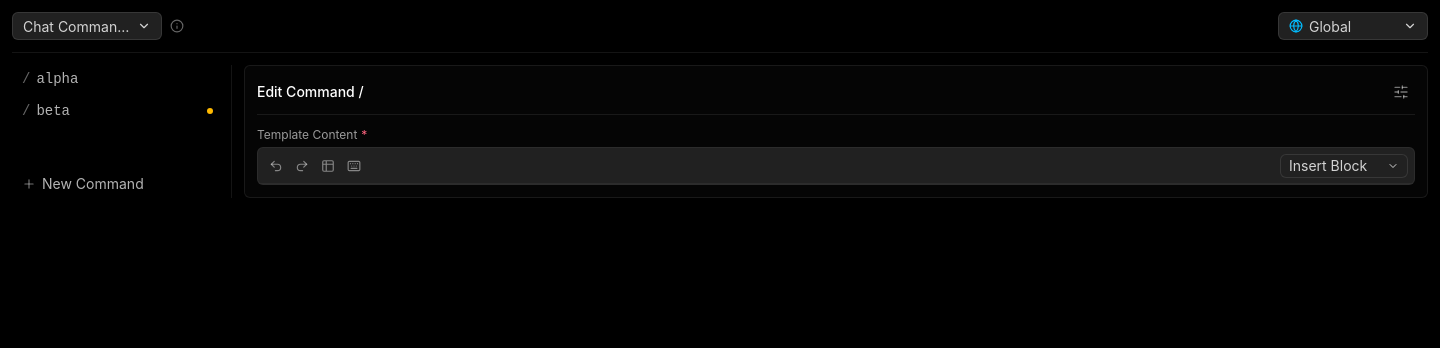
Test case: CustomCommandSettings 命令行 › 支持键盘 Enter 切换选中
This screenshot has width=1440, height=348.
Expected: the text "alpha" is shown, [36,71,78,87]
Click the button named "Edit Details". click: click(1401, 92)
box: [1387,78,1415,106]
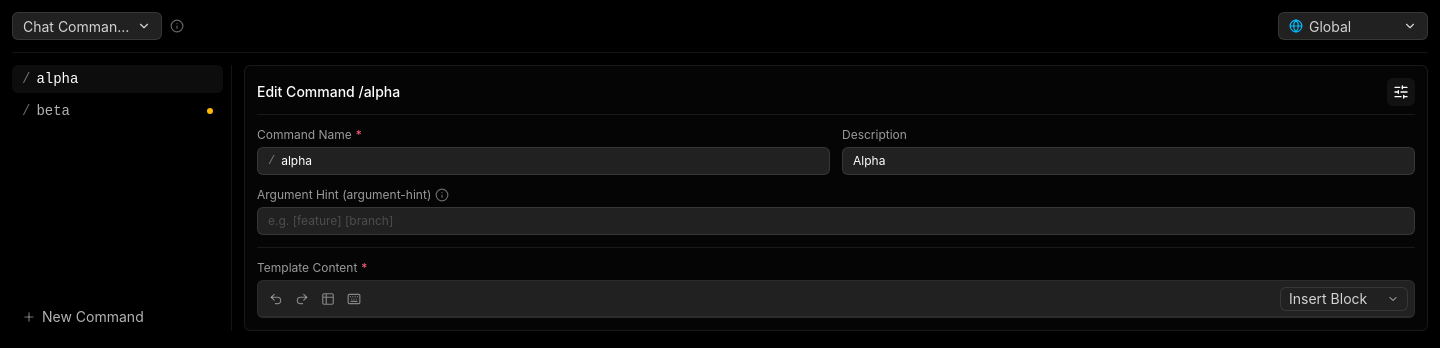
Now the field showing "alpha" is shown, box [281,153,819,169]
Click the button "/ beta". click: click(53, 111)
box: [22,103,213,119]
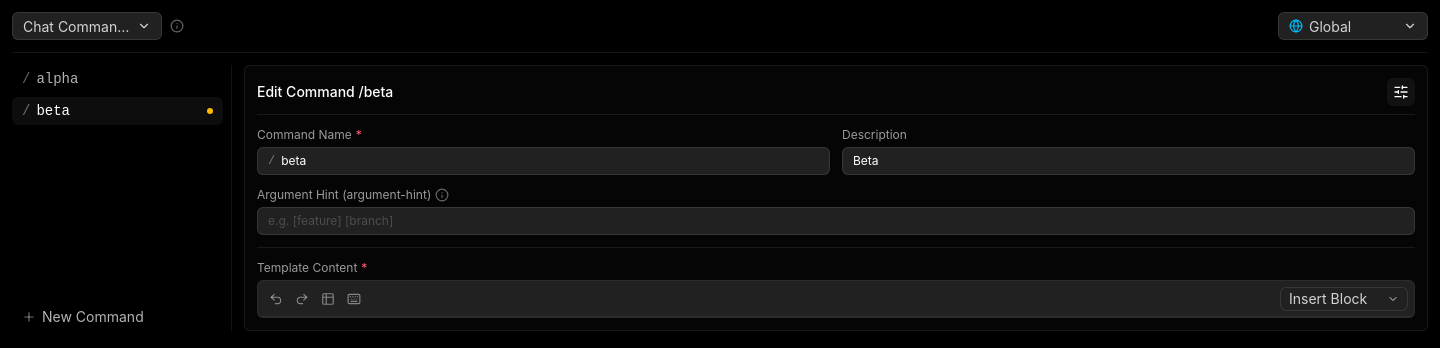
Now the field showing "beta" is shown, box [281,153,819,169]
Press Enter in the button "/ alpha", box [22,71,78,87]
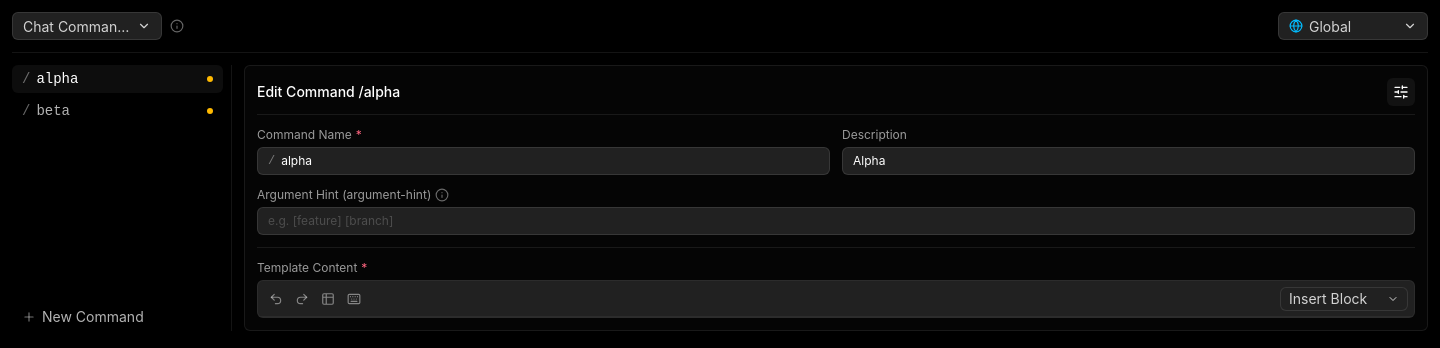
Now the field showing "alpha" is shown, box [281,153,819,169]
